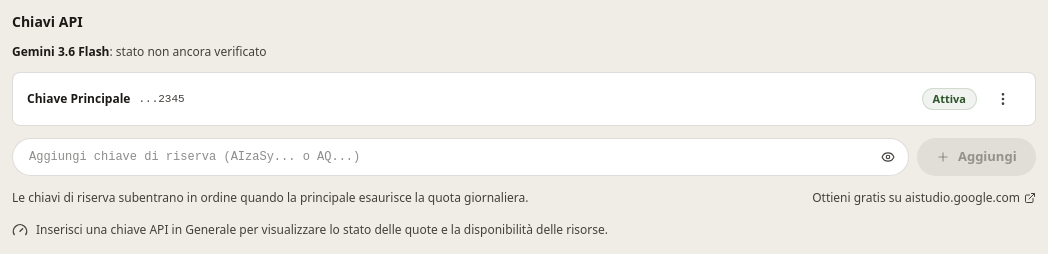
Scenario: ApiKeySection component › masks a new API key by default and reveals it only on request
Click the button named "Mostra nuova chiave": (888, 157) [880,138,894,176]
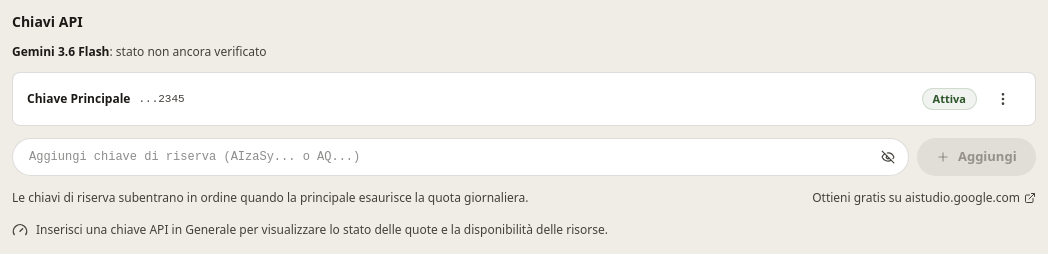
Result: the button named "Nascondi nuova chiave" is shown at [880,138,894,176]
